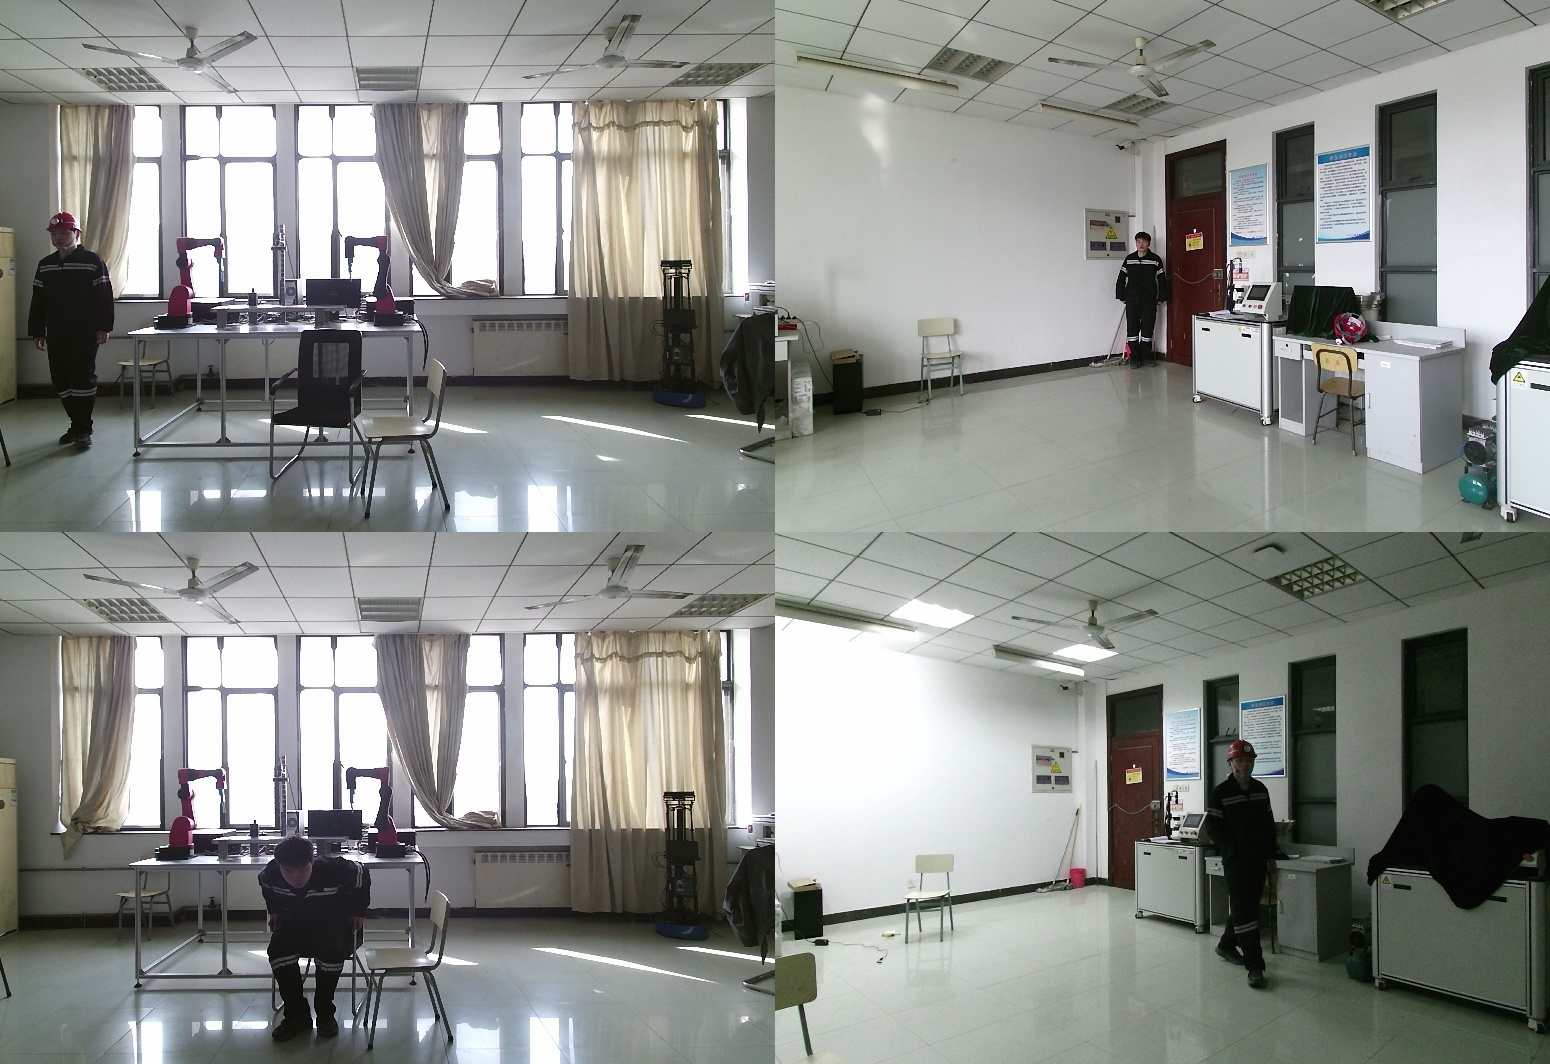person: (259, 835, 380, 1039), (28, 215, 126, 447), (1200, 741, 1282, 990), (1118, 233, 1171, 370)
